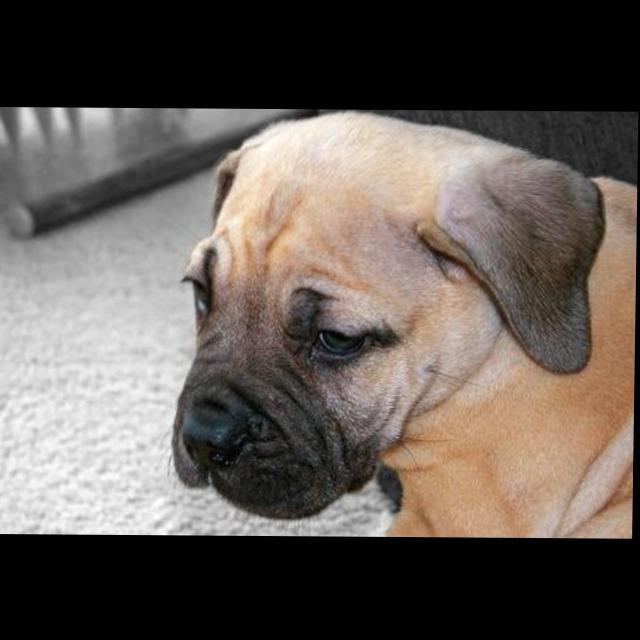bullmastiff: (171, 109, 640, 538)
